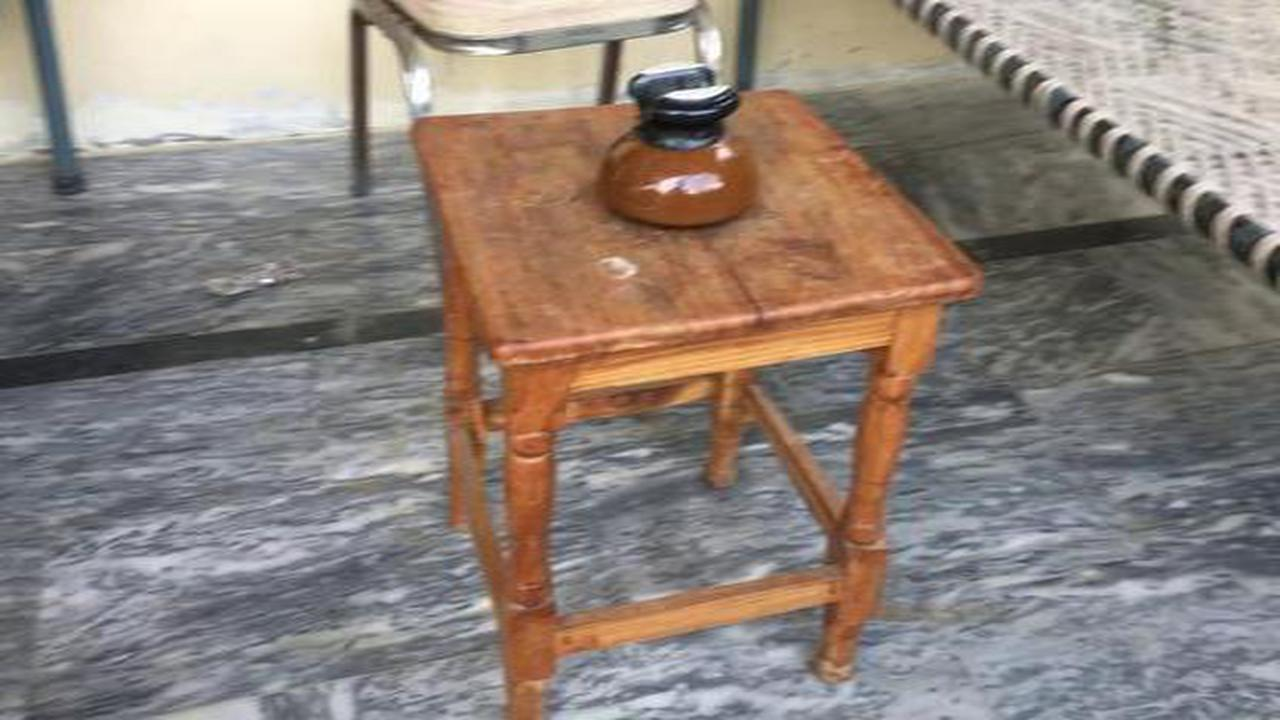insulator_pin: (573, 51, 788, 250)
